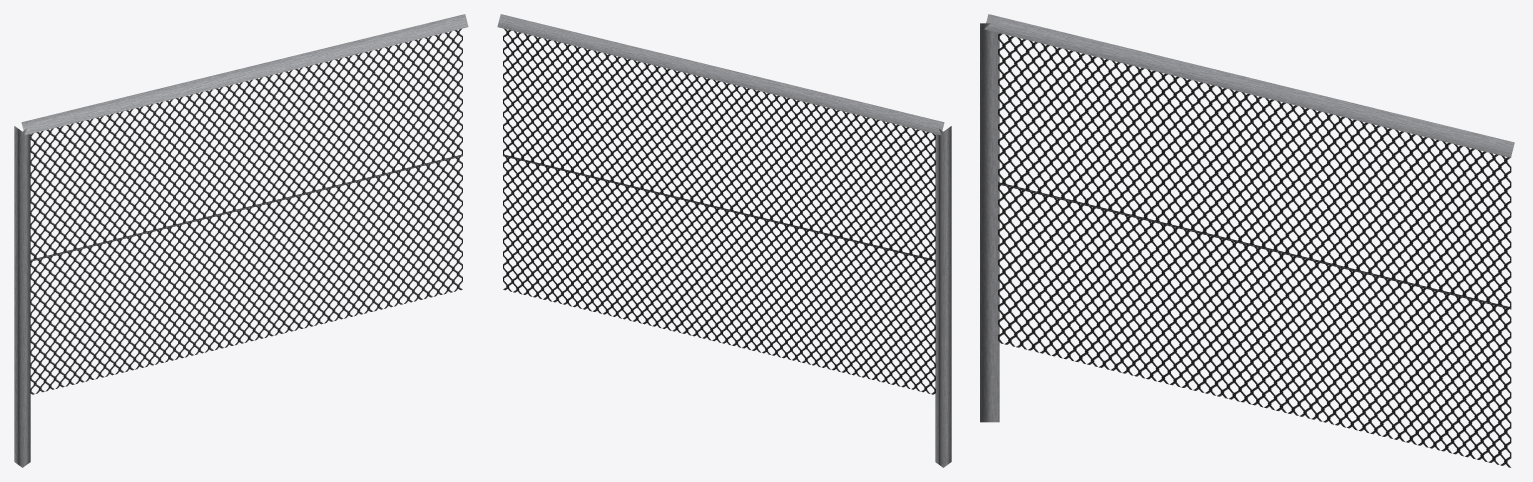
Rendered from fence-tall-chainlink-1rail-1s-cbj_LOD02.gltf.
3 views of the same model, side by side, from view 1: azimuth 30°, elevation 25°; view 2: azimuth 150°, elevation 25°; view 3: azimuth 330°, elevation 25° (orthographic). The views are drawn at different scales.
Visible parts, largest first — view 1: cube02; view 2: cube02; view 3: cube02.
Part boxes in pixels (x1,y1,x2,y2): cube02: (14,14,468,467); cube02: (497,14,951,467); cube02: (980,14,1514,467).
Size of what is drawn, in the model's own units: 3.13 by 2.29 by 0.0998.
